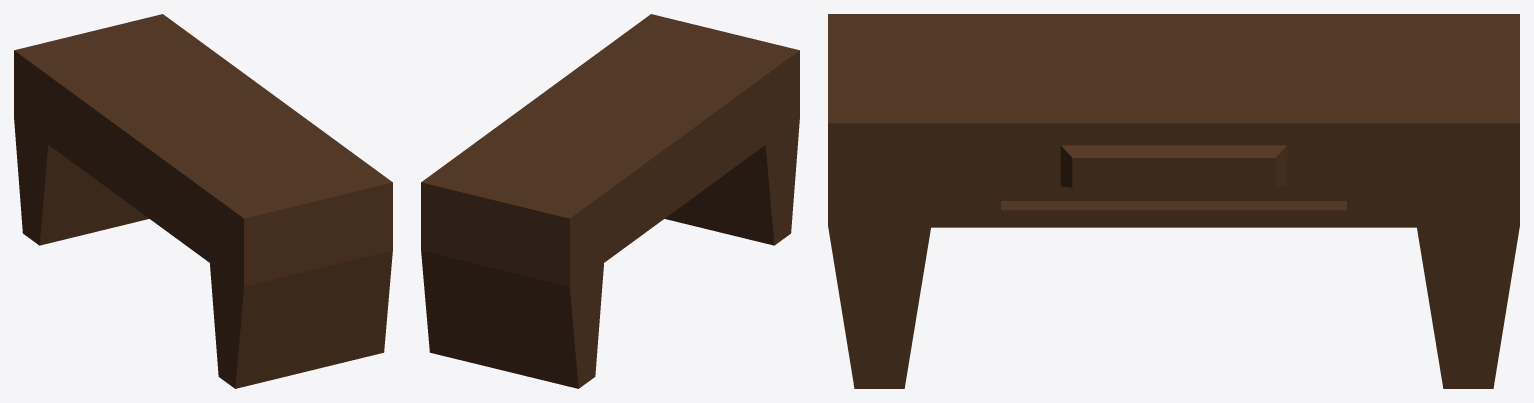
Rendered from desk.fbx.
3 views of the same model, side by side, from view 1: azimuth 30°, elevation 25°; view 2: azimuth 150°, elevation 25°; view 3: azimuth 270°, elevation 25° (orthographic). The views are drawn at different scales.
Parts seen in each view (by area): view 1: table3; view 2: table3; view 3: table3.
Part boxes in pixels (x1,y1,x2,y2): table3: [14, 14, 392, 388]; table3: [421, 14, 799, 388]; table3: [828, 14, 1519, 388].
Size of the model in its own units: 135 by 153 by 360.
